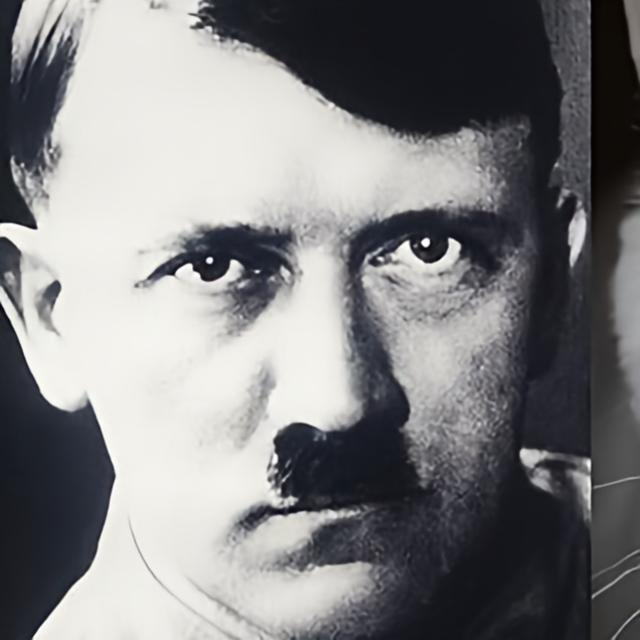anger: (88, 39, 540, 640)
